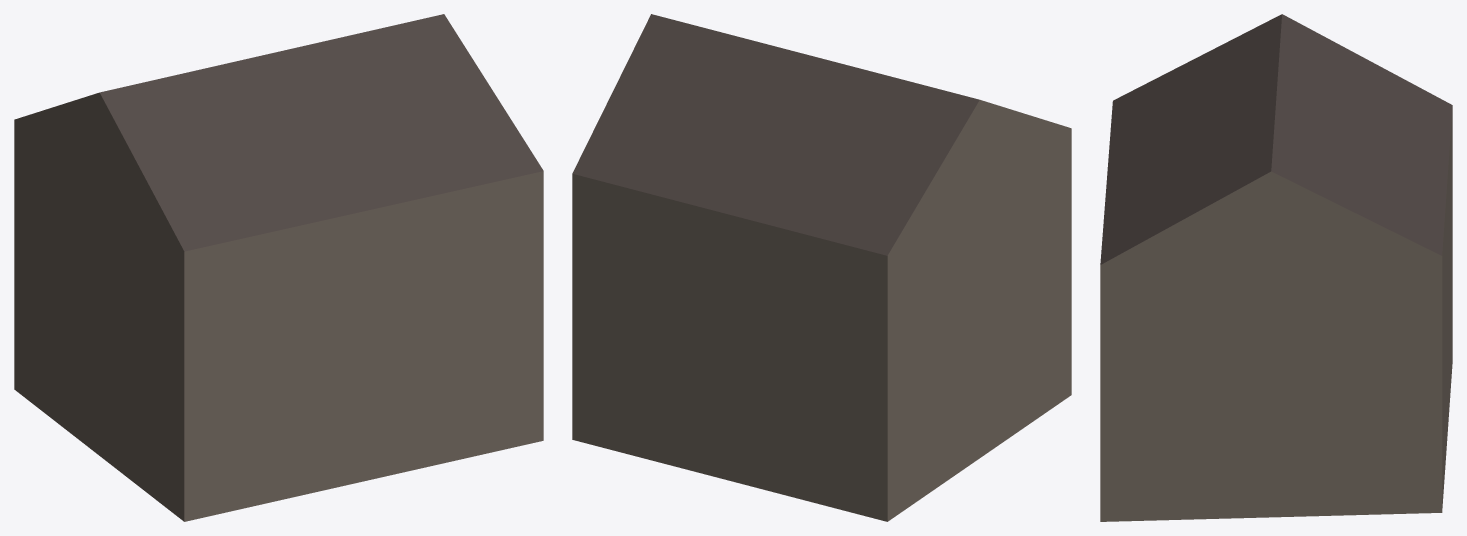
3 renders of one model, left to right at view 1: azimuth 30°, elevation 25°; view 2: azimuth 150°, elevation 25°; view 3: azimuth 270°, elevation 25°, orthographic. The views are drawn at different scales.
Visible parts, largest first — view 1: HP-w1376988827; view 2: HP-w1376988827; view 3: HP-w1376988827.
Boxes of the visible parts, <box> form: HP-w1376988827: <box>14,14,543,521</box>; HP-w1376988827: <box>572,14,1071,521</box>; HP-w1376988827: <box>1100,14,1452,521</box>.
Size of the model in its own units: 8.21 by 8.09 by 7.46.
